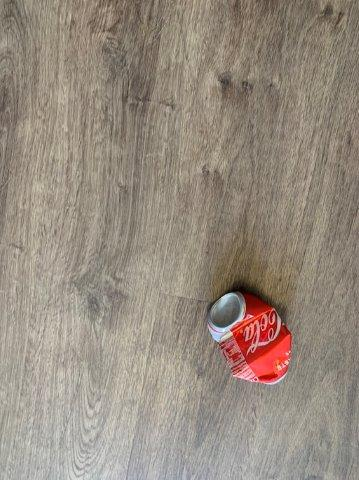kaleng: (208, 292, 291, 382)
